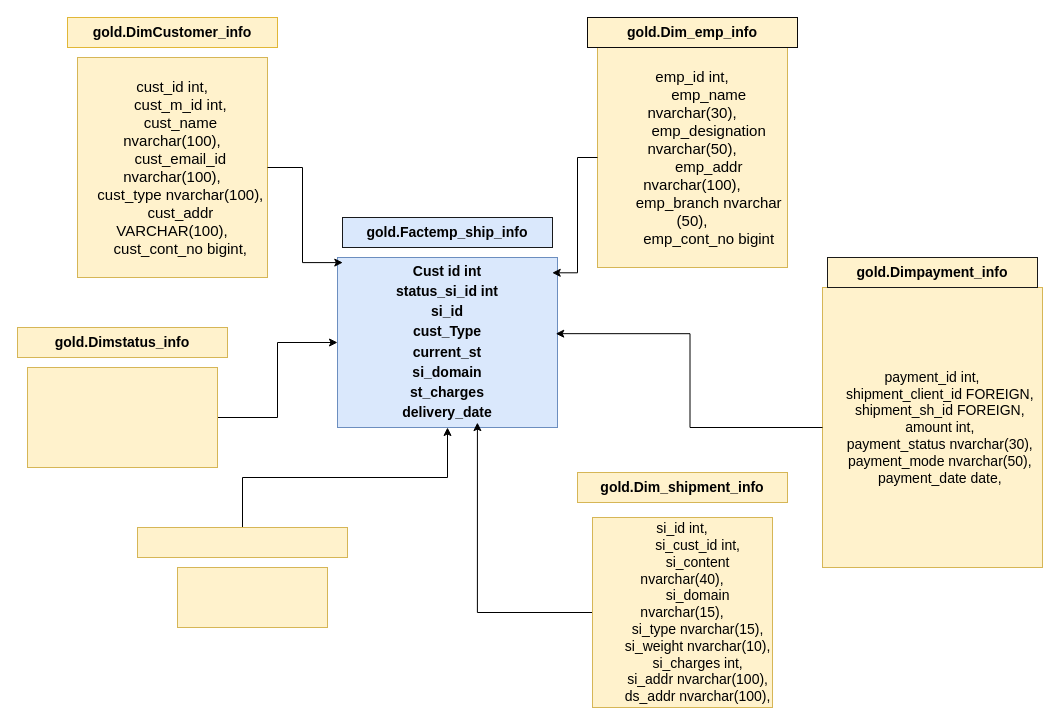
The diagram is 1060 pixels wide and 725 high, and some of its shapes have lost their labels. Each missing label, with the centre of its shape:
"gold.Dimmembership_info" belongs at point 242,542.
"m_id int, Startdate DATE, end_date date" belongs at point 252,597.
"status_si_id int, current_st nvarchar(15), sent_date date, delivery_date date" belongs at point 122,417.
